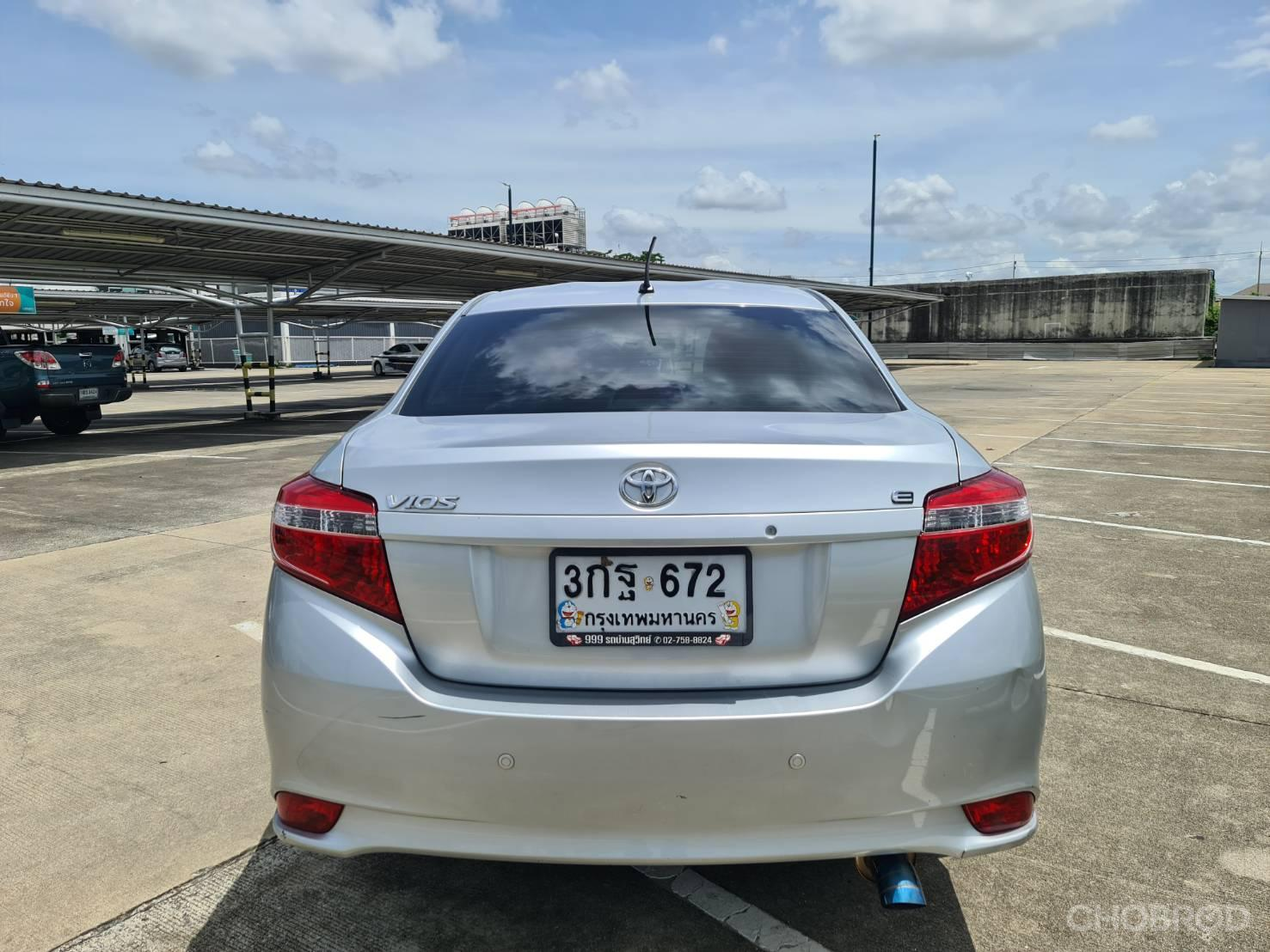license-plate: (547, 541, 756, 651)
